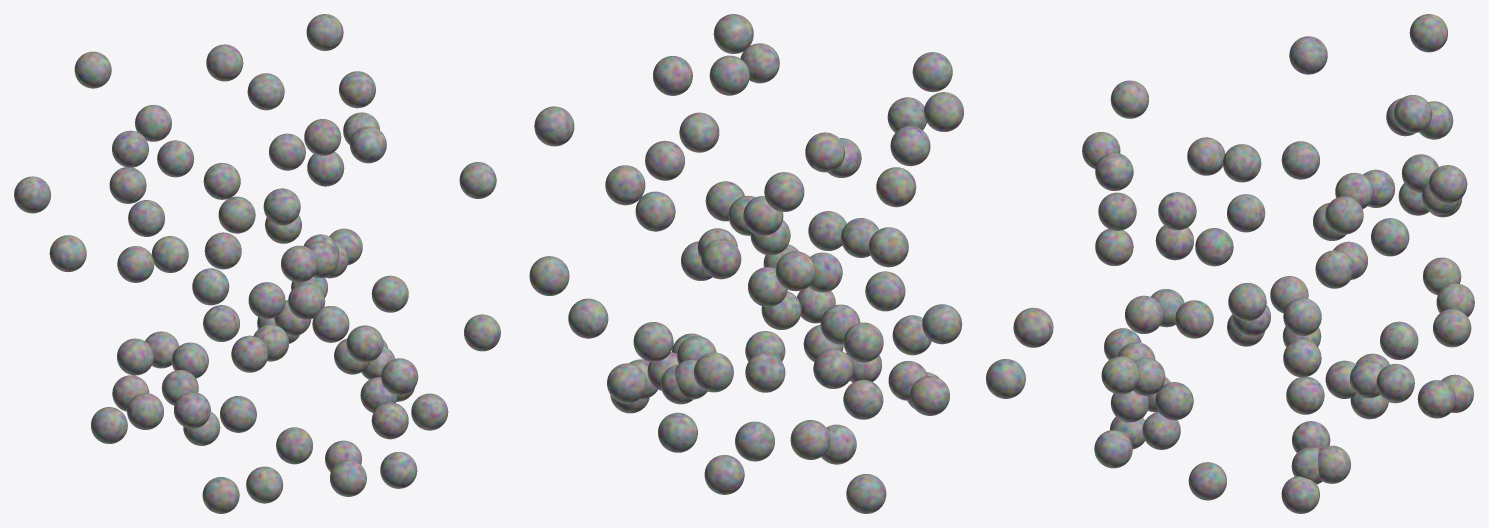
File: triangle.gltf
The picture shows the model from 3 angles, left to right: view 1: azimuth 30°, elevation 25°; view 2: azimuth 150°, elevation 25°; view 3: azimuth 270°, elevation 25°; orthographic projection. The views are drawn at different scales.
Visible parts, largest first — view 1: world (×60); view 2: world (×60); view 3: world (×61).
Part boxes in pixels (x1,y1,x2,y2): world (×60): (14,14,500,513); world (×60): (529,14,1053,513); world (×61): (1082,14,1474,513).
Bounding box in the file's own units: 5.39 × 5.45 × 5.11.
